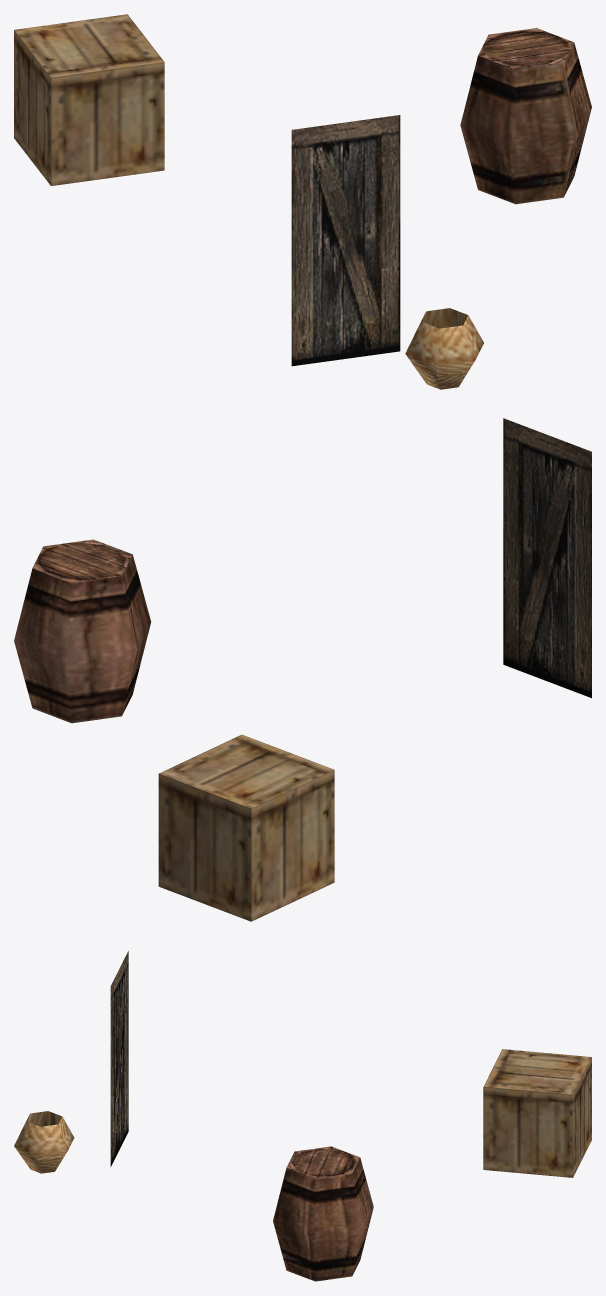
The model's file is celt_hut_props.dae.
3 views of the same model, one above another, from view 1: azimuth 30°, elevation 25°; view 2: azimuth 150°, elevation 25°; view 3: azimuth 270°, elevation 25° (orthographic). The views are drawn at different scales.
Visible parts, largest first — view 1: dock_celt_prop01-Pivot; view 2: dock_celt_prop01-Pivot; view 3: dock_celt_prop01-Pivot.
Boxes of the visible parts, x1,y1,x2,y2 form: dock_celt_prop01-Pivot: (14,14,591,389); dock_celt_prop01-Pivot: (14,418,591,921); dock_celt_prop01-Pivot: (14,951,591,1281).
Bounding box in the file's own units: 6.09 × 9.46 × 3.28.
